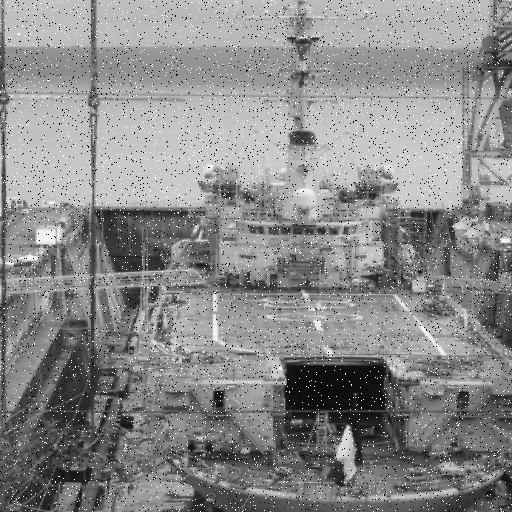Portanaves: (158, 1, 512, 413)
